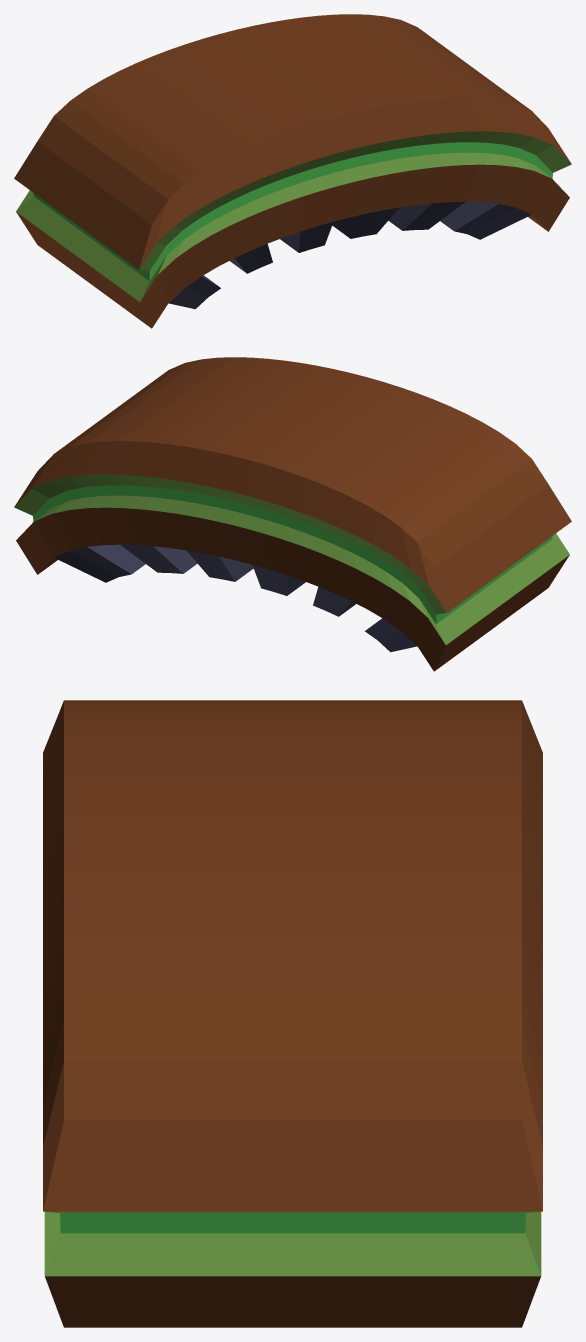
3 renders of one model, top to bottom at view 1: azimuth 30°, elevation 25°; view 2: azimuth 150°, elevation 25°; view 3: azimuth 270°, elevation 25°, orthographic. The views are drawn at different scales.
Visible parts, largest first — view 1: Paddle; view 2: Paddle; view 3: Paddle.
Part boxes in pixels (x1,y1,x2,y2): Paddle: (14,14,571,328); Paddle: (14,357,571,671); Paddle: (43,700,542,1327).
Size of the model in its own units: 4.37 by 1.64 by 2.18.
